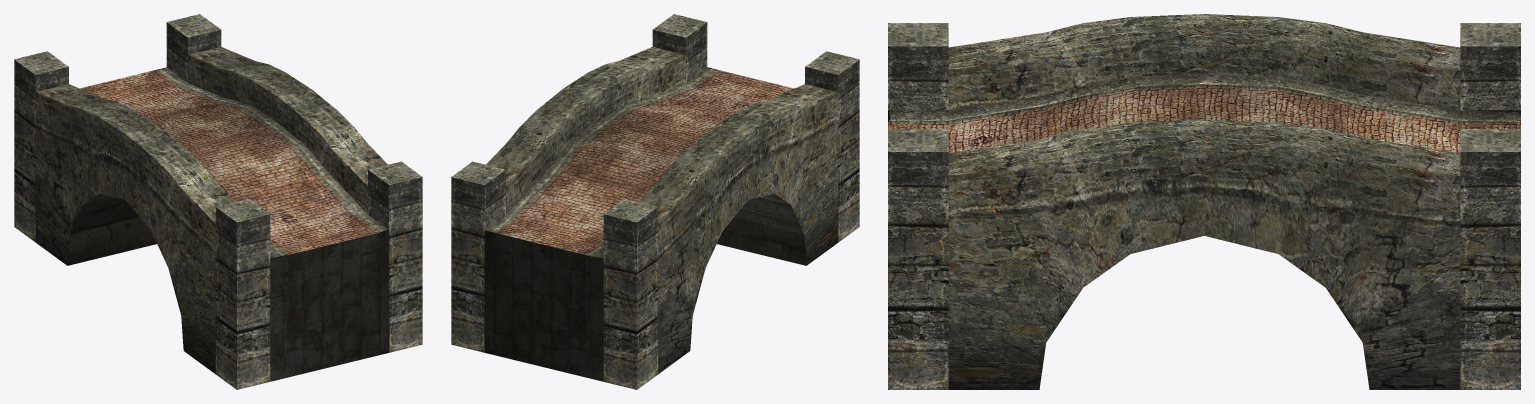
The model's file is bridge_04_small_LOD.fbx.
3 renders of one model, left to right at view 1: azimuth 30°, elevation 25°; view 2: azimuth 150°, elevation 25°; view 3: azimuth 270°, elevation 25°, orthographic. The views are drawn at different scales.
Visible parts, largest first — view 1: Mesh Object; view 2: Mesh Object; view 3: Mesh Object.
Boxes of the visible parts, x1,y1,x2,y2 form: Mesh Object: (14, 14, 422, 389); Mesh Object: (451, 14, 859, 389); Mesh Object: (888, 14, 1520, 389).
Bounding box in the file's own units: 4.53 × 4.05 × 9.4.
